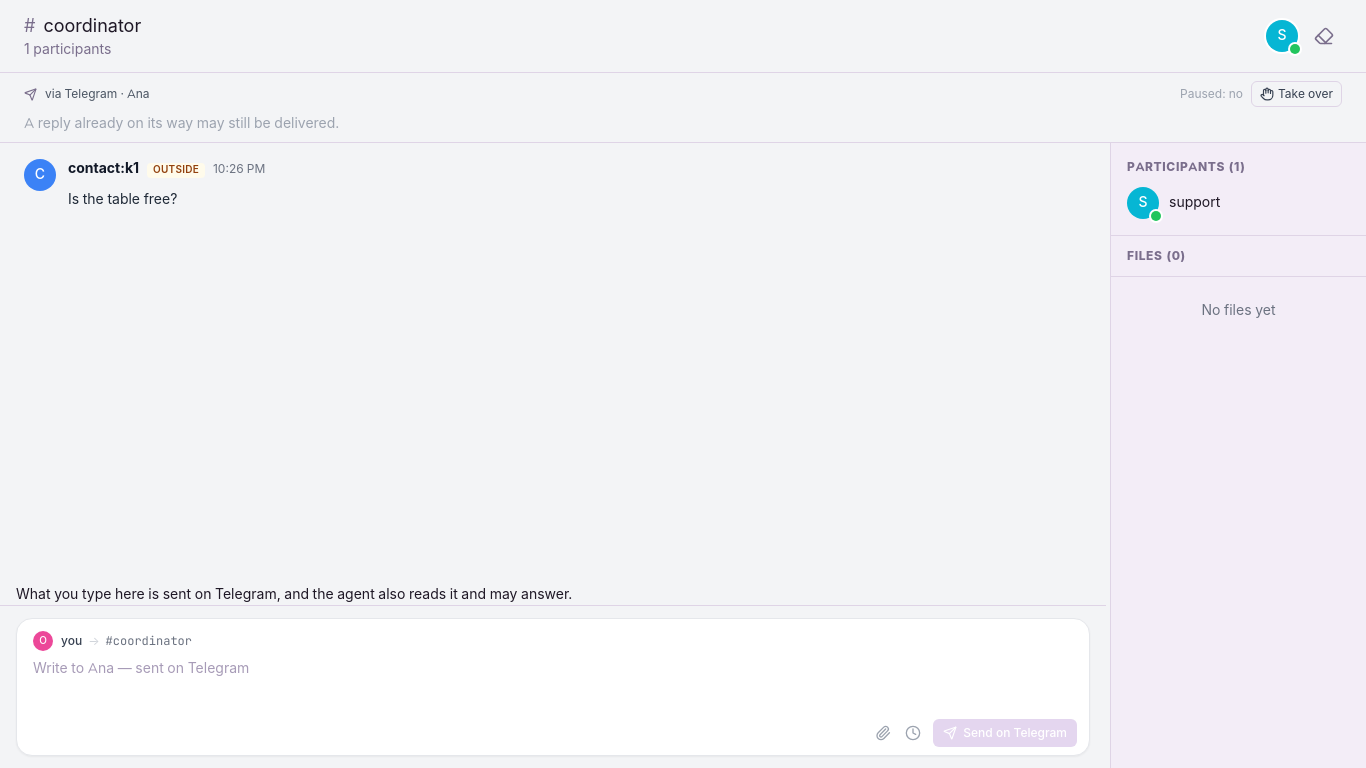
Test: Take over / Hand back › a 403 from the PUT shows inline and leaves the control as it was
The image size is (1366, 768).
Click the button "Take over" at (1296, 94), box [1251, 81, 1342, 107]
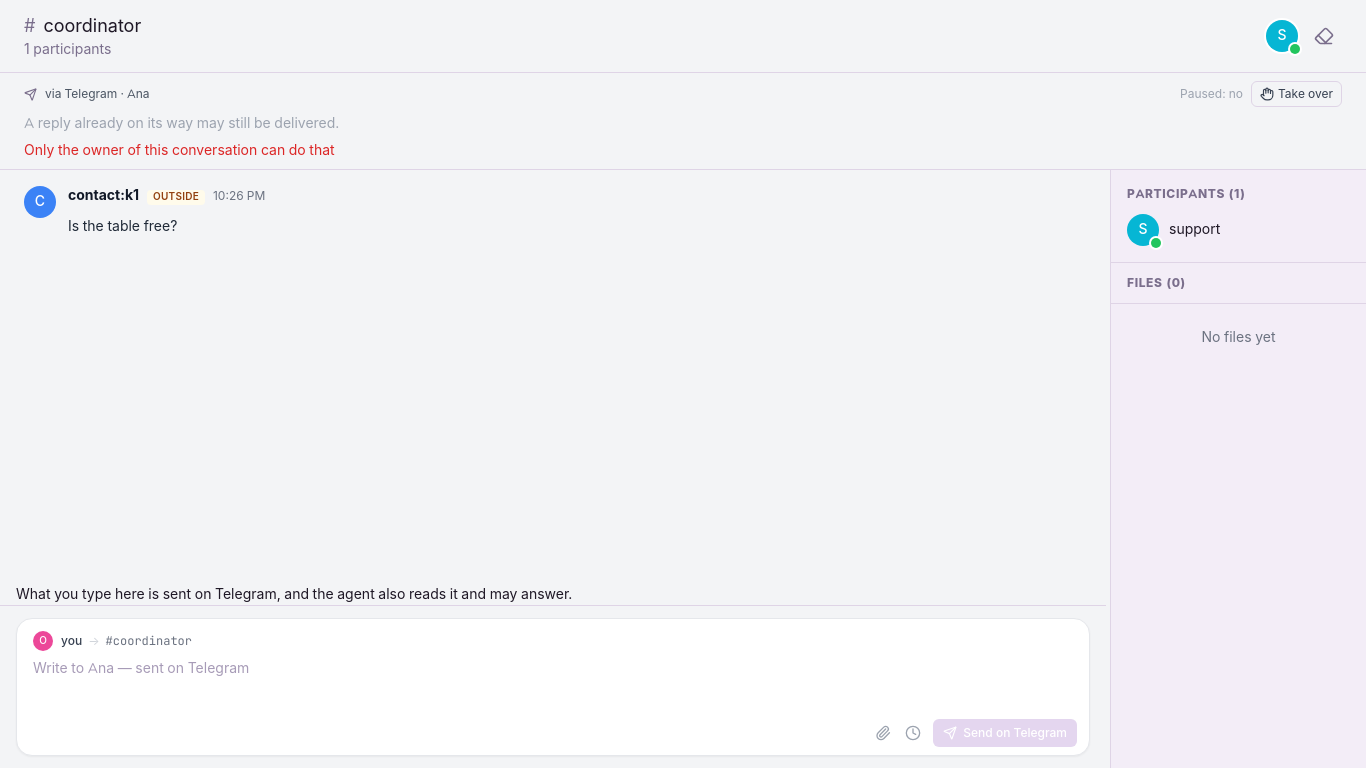
Expected: the text with test id "channel-pause-state" reads "Paused: no", [1180, 86, 1243, 102]
Result: the message with test id "channel-pause-error" reads "Only the owner of this conversation can do that" at [24, 141, 335, 160]
